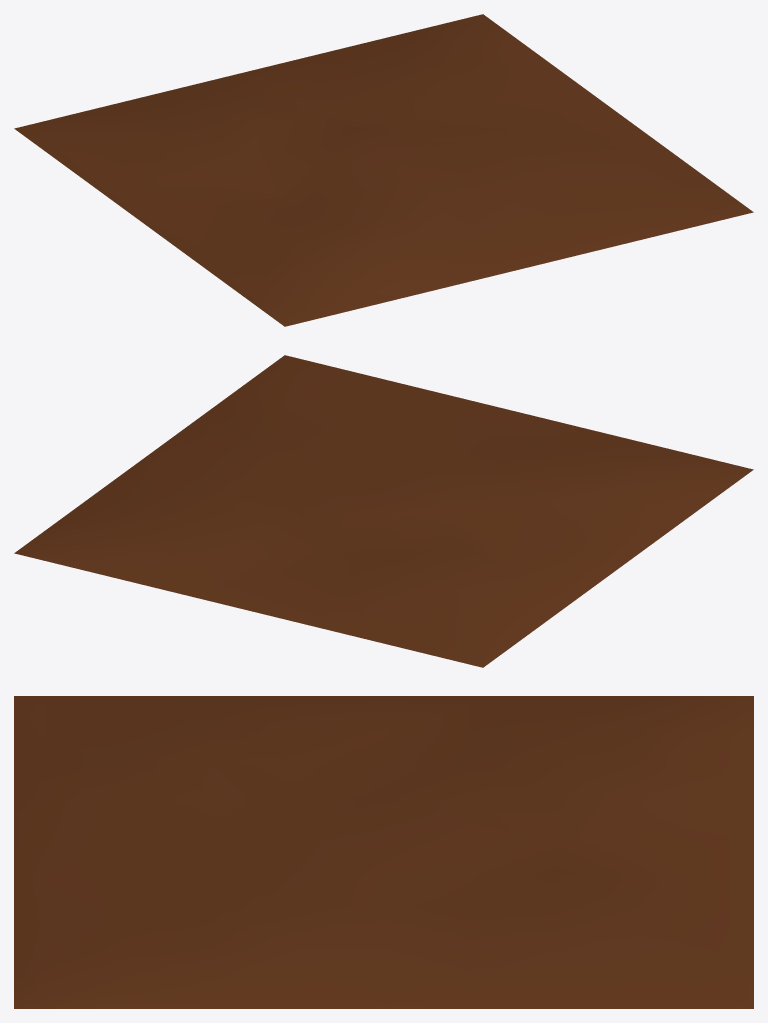
The model's file is Env_Dirt_Medium_Watered_01.obj.
The picture shows the model from 3 angles, top to bottom: view 1: azimuth 30°, elevation 25°; view 2: azimuth 150°, elevation 25°; view 3: azimuth 270°, elevation 25°; orthographic projection. The views are drawn at different scales.
Visible parts, largest first — view 1: Env_Dirt_Medium_Watered_01; view 2: Env_Dirt_Medium_Watered_01; view 3: Env_Dirt_Medium_Watered_01.
Boxes of the visible parts, <box> form: Env_Dirt_Medium_Watered_01: <box>14,14,753,326</box>; Env_Dirt_Medium_Watered_01: <box>14,355,753,667</box>; Env_Dirt_Medium_Watered_01: <box>14,696,753,1008</box>.
Size of the model in its own units: 1 by 0.0365 by 1.
1 material, 1 textured.
